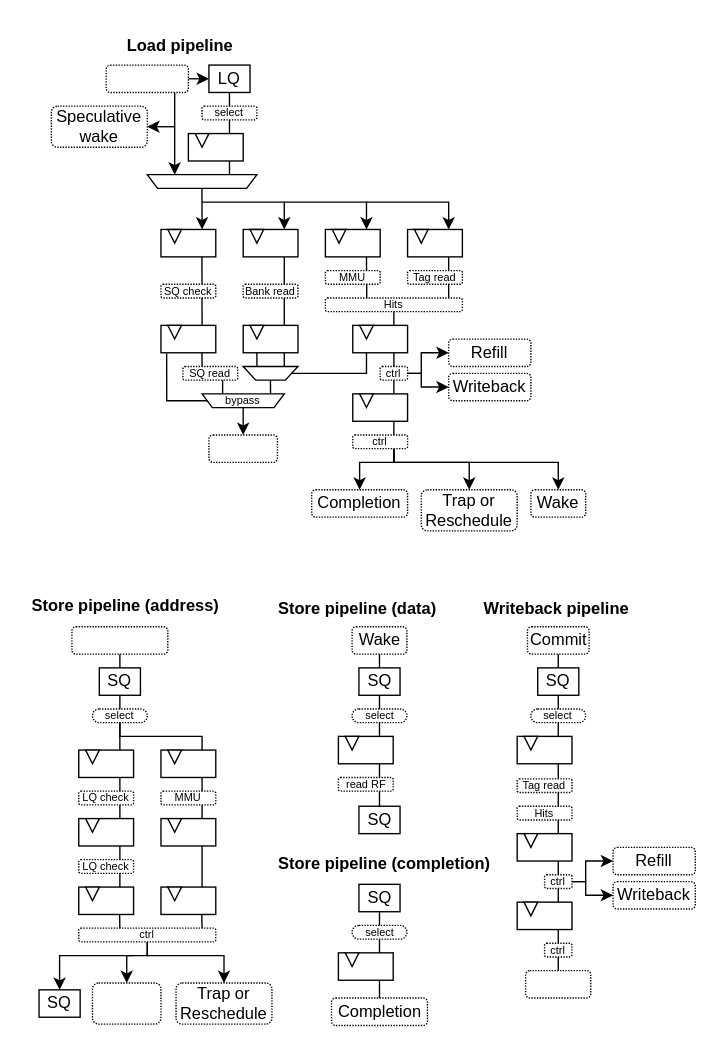
Some shapes in this 719 by 1049 pixel diagram are drawn without their labels. The shapes that lost their labels are listed below. From the top down, each one's centre as x and y in pixels, then its label:
At (146,78): "Load AGU".
At (242,448): "Write RF".
At (119,639): "Store AGU".
At (126,1003): "Physical address".
At (557,983): "SQ free".
